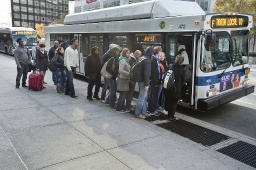bus: (43, 4, 255, 110)
